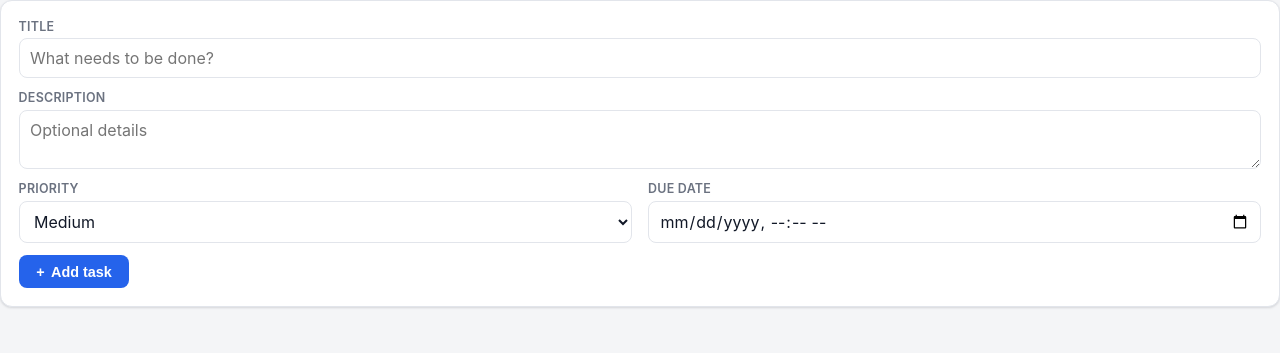
Test: TaskForm › shows a validation error and does not submit when the title is blank
Click the button "+ Add task". click: (74, 272)
box: left=19, top=255, right=129, bottom=288
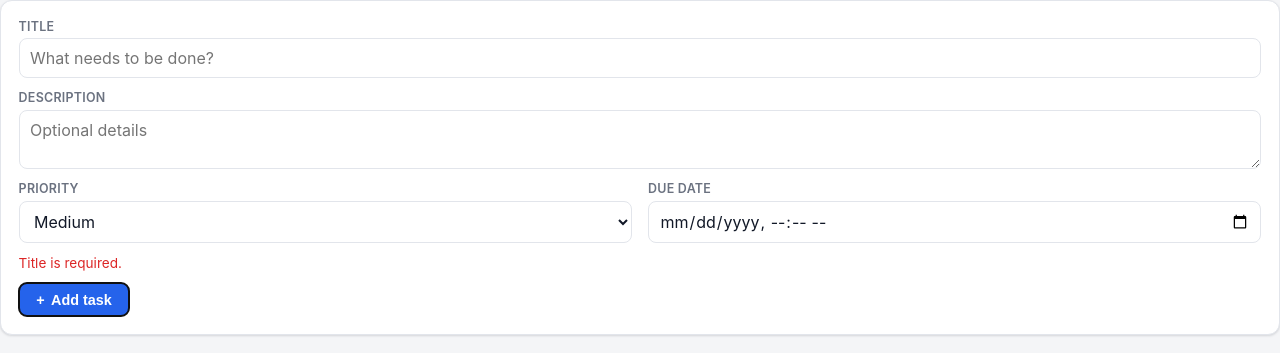
Expected: the message reads "Title is required.", left=19, top=255, right=122, bottom=271
